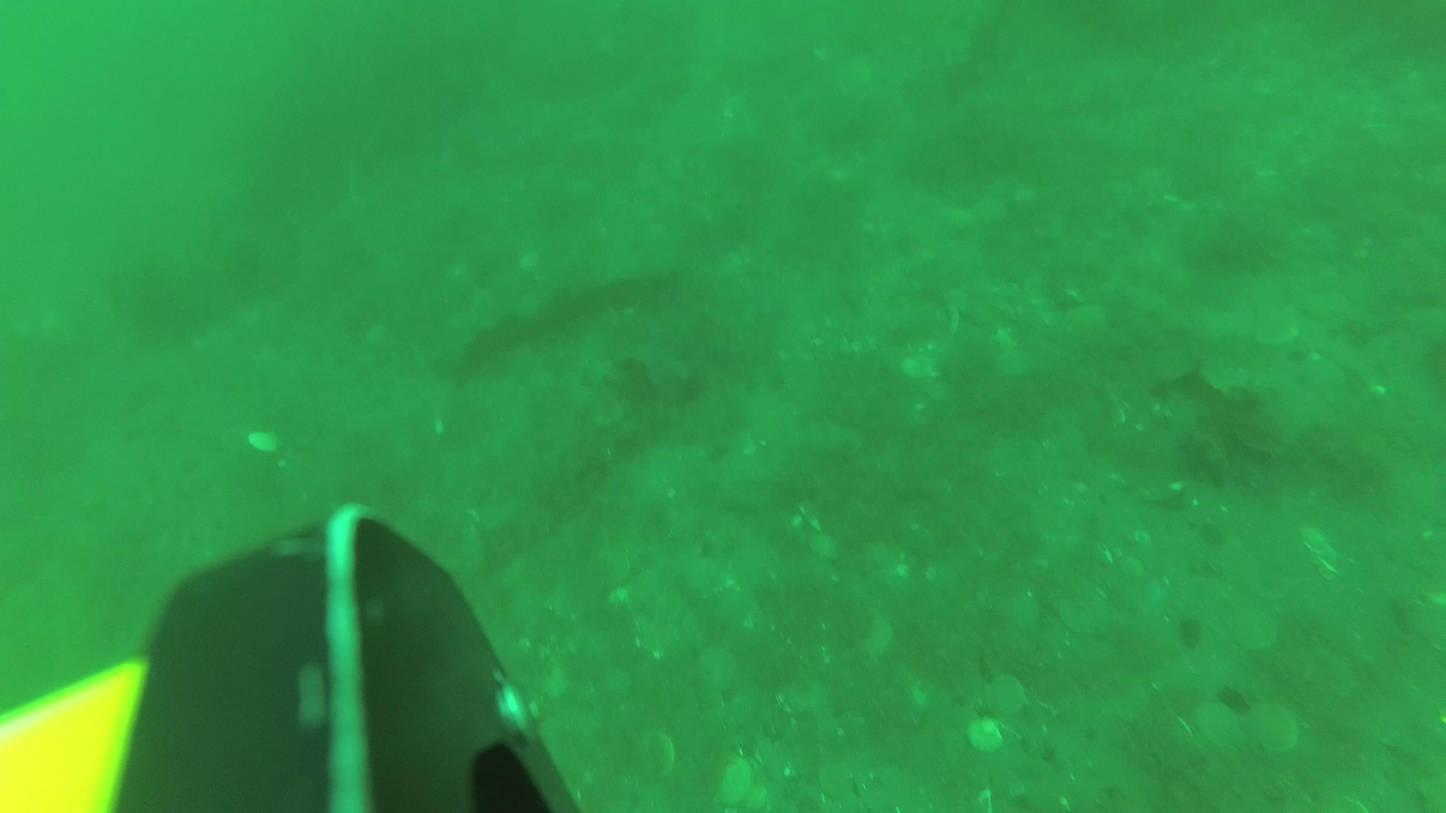scallop: (1222, 601, 1281, 659), (1096, 669, 1148, 728), (1249, 700, 1300, 759), (1189, 694, 1239, 753), (1202, 537, 1259, 586), (635, 726, 680, 782), (982, 669, 1035, 716), (1056, 591, 1110, 636), (715, 754, 756, 806), (774, 679, 829, 717), (693, 645, 735, 693), (817, 755, 860, 801), (851, 614, 894, 659), (964, 716, 1010, 757), (1003, 590, 1042, 634), (805, 530, 845, 565), (246, 429, 285, 454)
